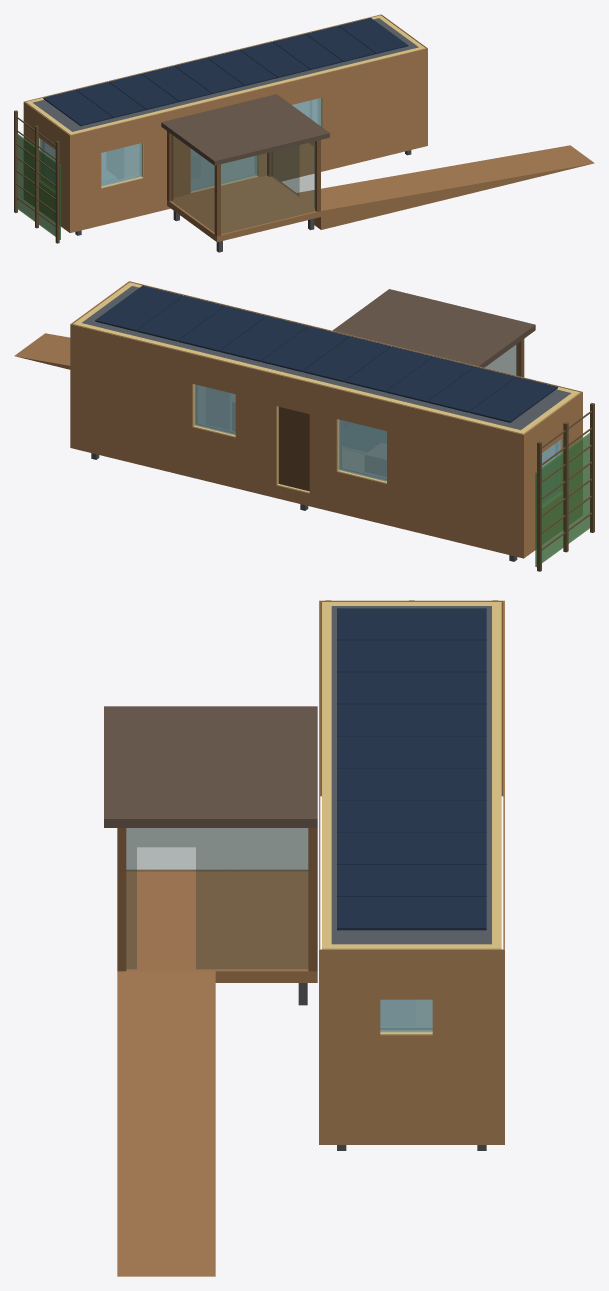
Rendered from cabin-a.obj.
3 renders of one model, top to bottom at view 1: azimuth 30°, elevation 25°; view 2: azimuth 150°, elevation 25°; view 3: azimuth 270°, elevation 25°, orthographic. The views are drawn at different scales.
Visible parts, largest first — view 1: south_rainscreen, main_pv, ramp_porch-ramp, porch_screened-porch_roof, porch_screened-porch_screen_south, porch_screened-porch_deck, porch_screened-porch_screen_west, west_rainscreen, trellis_planting, main_roof-membrane, south_ext-insulation, opening_D2 (+8 smaller); view 2: north_rainscreen, main_pv, porch_screened-porch_roof, west_rainscreen, trellis_planting, main_roof-membrane, north_ext-insulation, opening_W3, opening_D1, trellis_posts, opening_W5, ramp_porch-ramp (+7 smaller); view 3: main_pv, east_rainscreen, ramp_porch-ramp, porch_screened-porch_roof, porch_screened-porch_deck, porch_screened-porch_screen_east, porch_screened-porch_screen_west, main_roof-membrane, north_ext-insulation, south_ext-insulation, porch_screened-porch_posts, opening_W6 (+5 smaller).
Part boxes in pixels (left/top/right/bottom): south_rainscreen: left=69, top=48, right=427, bottom=232; main_pv: left=43, top=18, right=408, bottom=126; ramp_porch-ramp: left=297, top=145, right=594, bottom=229; porch_screened-porch_roof: left=161, top=94, right=329, bottom=165; porch_screened-porch_screen_south: left=221, top=141, right=315, bottom=233; porch_screened-porch_deck: left=167, top=175, right=320, bottom=242; porch_screened-porch_screen_west: left=171, top=134, right=214, bottom=232; west_rainscreen: left=24, top=102, right=69, bottom=232; trellis_planting: left=18, top=134, right=60, bottom=239; main_roof-membrane: left=33, top=18, right=418, bottom=131; south_ext-insulation: left=68, top=46, right=425, bottom=192; opening_D2: left=190, top=149, right=256, bottom=191; north_rainscreen: left=70, top=324, right=524, bottom=558; main_pv: left=95, top=285, right=557, bottom=422; porch_screened-porch_roof: left=333, top=289, right=535, bottom=367; west_rainscreen: left=524, top=392, right=582, bottom=557; trellis_planting: left=535, top=432, right=589, bottom=567; main_roof-membrane: left=82, top=286, right=571, bottom=429; north_ext-insulation: left=73, top=321, right=526, bottom=492; opening_W3: left=338, top=419, right=386, bottom=481; opening_D1: left=278, top=407, right=309, bottom=491; trellis_posts: left=537, top=403, right=594, bottom=571; opening_W5: left=194, top=384, right=235, bottom=435; ramp_porch-ramp: left=14, top=333, right=70, bottom=369; main_pv: left=337, top=608, right=486, bottom=930; east_rainscreen: left=320, top=949, right=503, bottom=1144; ramp_porch-ramp: left=117, top=971, right=215, bottom=1276; porch_screened-porch_roof: left=104, top=706, right=317, bottom=827; porch_screened-porch_deck: left=126, top=869, right=317, bottom=982; porch_screened-porch_screen_east: left=126, top=828, right=307, bottom=968; porch_screened-porch_screen_west: left=126, top=828, right=307, bottom=871; main_roof-membrane: left=331, top=606, right=491, bottom=944; north_ext-insulation: left=492, top=602, right=501, bottom=949; south_ext-insulation: left=322, top=602, right=331, bottom=949; porch_screened-porch_posts: left=117, top=828, right=317, bottom=971; opening_W6: left=380, top=999, right=432, bottom=1032.
Bounding box in the file's own units: 17.08 × 3.7 × 6.1.
